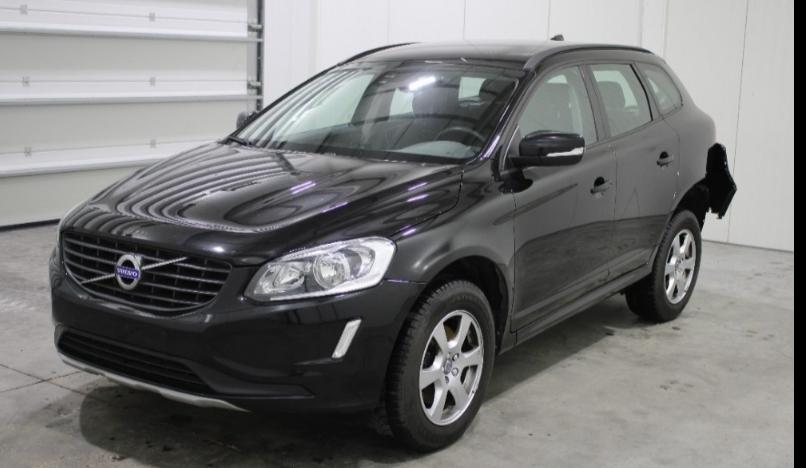Back-bumper: (678, 146, 737, 223)
Back-door: (586, 61, 678, 283)
Back-wheel: (627, 209, 703, 321)
Back-window: (587, 63, 650, 139), (637, 63, 682, 115)
Fender: (380, 158, 514, 347)
Front-bumper: (48, 252, 429, 419)
Front-door: (500, 62, 617, 331)
Front-wheel: (360, 283, 497, 450)
Front-window: (520, 65, 597, 147)
Grille: (63, 230, 230, 311)
Headlight: (244, 238, 395, 303)
Hood: (59, 141, 461, 267)
Mirror: (515, 130, 583, 169)
Quarter-panel: (649, 101, 719, 260)
Rocker-panel: (502, 263, 653, 354)
Roof: (349, 40, 625, 69)
Windshield: (233, 61, 529, 165)
